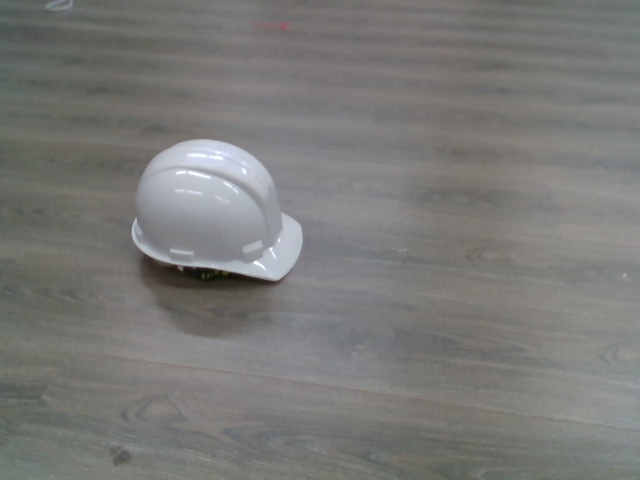helmet: (130, 135, 308, 285)
